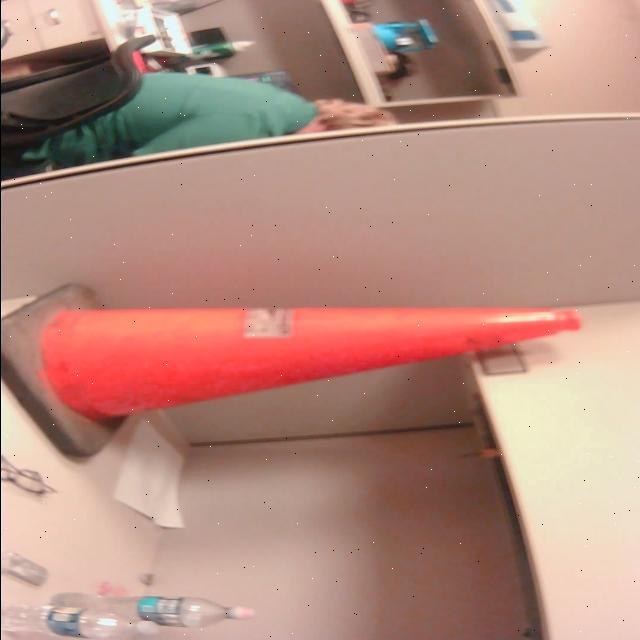traffic cone: (1, 281, 587, 463)
